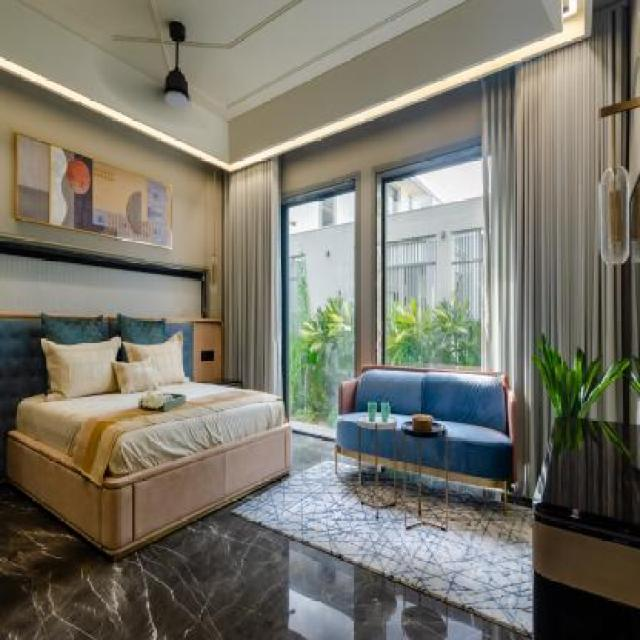floor: (0, 428, 531, 639)
